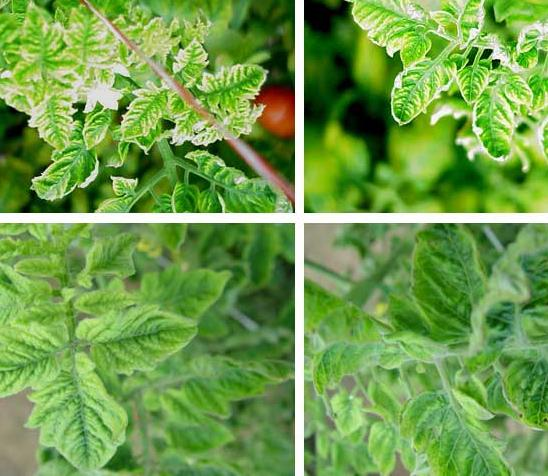Tomato mold leaf: (25, 354, 142, 476), (383, 377, 524, 476), (70, 304, 215, 381), (409, 223, 495, 348), (0, 326, 68, 414)
